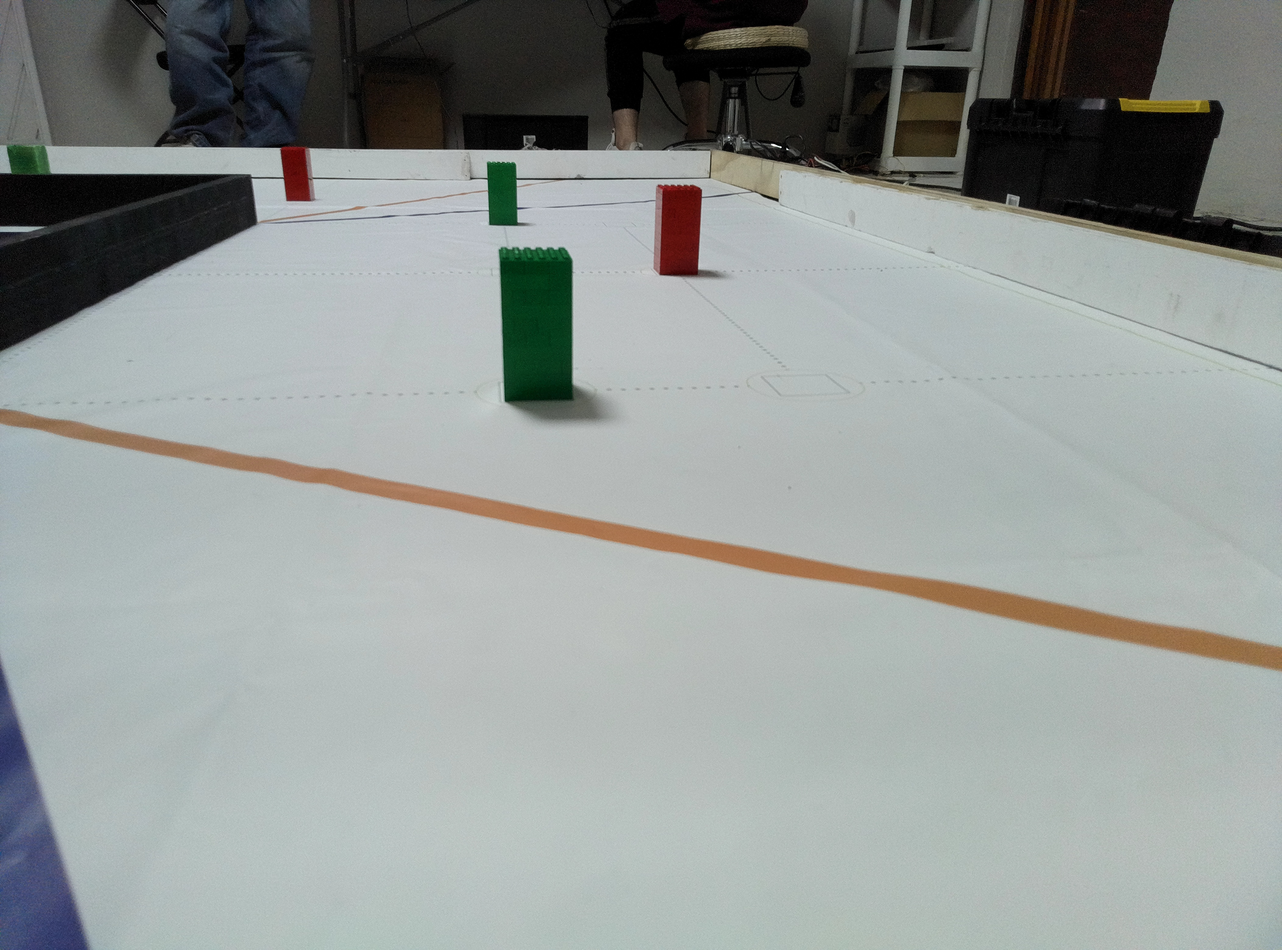greenbox: (500, 248, 575, 402), (488, 163, 516, 225), (5, 144, 55, 174)
redbox: (656, 184, 699, 278), (280, 145, 312, 206)
